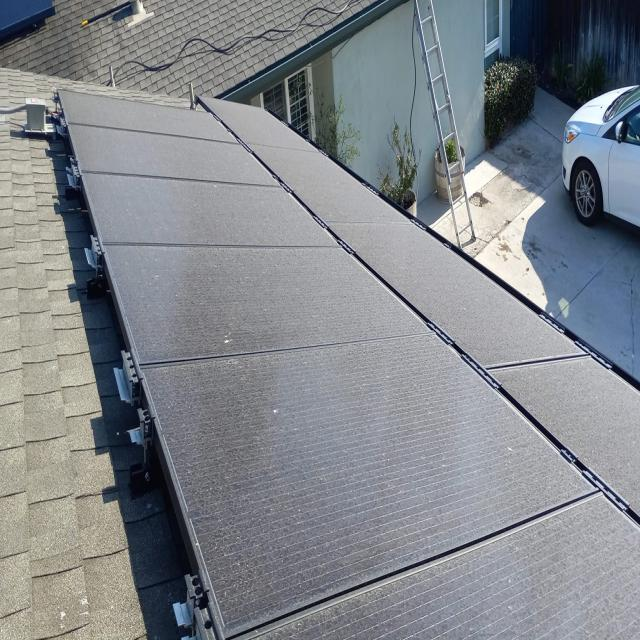dust-solar-panel: (56, 88, 640, 640)
